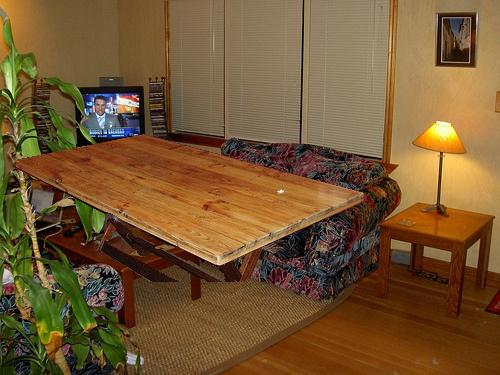tampered: (15, 135, 367, 282)
